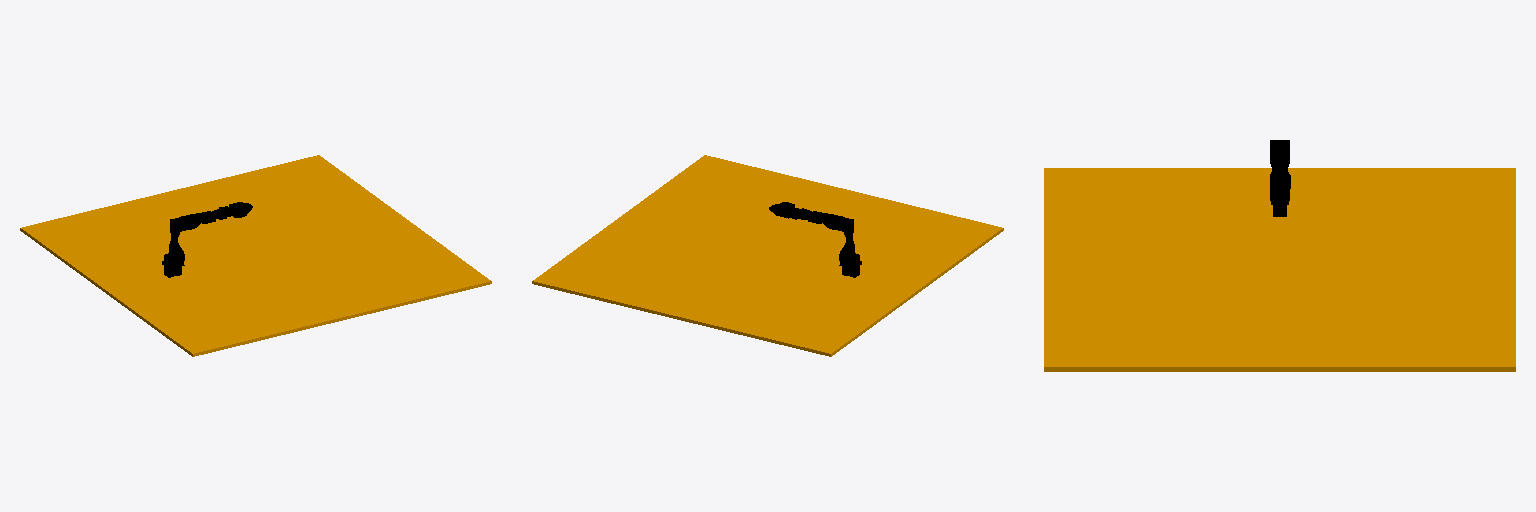
robot.urdf — seven_link_robot:
<?xml version="1.0"?>
<robot name="seven_link_robot">

  
  <link name="floor">
    <visual>
      <origin xyz="0 0 0" rpy="0 0 0"/>
      <geometry>
        <box size="1 1 0.01"/>
      </geometry>
    </visual>
    <collision>
      <origin xyz="0 0 0" rpy="0 0 0"/>
      <geometry>
        <box size="1 1 0.01"/>
      </geometry>
    </collision>
  </link>

  <joint name="joint_floor" type="fixed">
    <parent link="floor"/>
    <child link="link0"/>
    <origin xyz="-0.3 0 0" rpy="1.5708 0 -1.5708"/>
  </joint>

  <link name="link0">
    <visual>
      <origin xyz="0 0 0" rpy="0 0 0"/>
      <geometry>
        <mesh filename="package://meshes/marcel_meshes/link0.dae" scale="0.001 0.001 0.001"/>
      </geometry>
    </visual>
    <collision>
      <origin xyz="0 0 0" rpy="0 0 0"/>
      <geometry>
        <mesh filename="package://meshes/marcel_meshes/link0.dae" scale="0.001 0.001 0.001"/>
      </geometry>
    </collision>
  </link>


  <link name="link1">
    <visual>
      <origin xyz="0 0 0.03525" rpy="0 0 0"/>
      <geometry>
        <mesh filename="package://meshes/marcel_meshes/link1.dae" scale="0.001 0.001 0.001"/>
      </geometry>
    </visual>
    <collision>
      <origin xyz="0 0 0.02525" rpy="0 0 0"/>
      <geometry>
        <mesh filename="package://meshes/marcel_meshes/link1.dae" scale="0.001 0.001 0.001"/>
      </geometry>
    </collision>
  </link>

  <joint name="joint0" type="revolute">
    <parent link="link0"/>
    <child link="link1"/>
    <origin xyz="0 0 -0.03525" rpy="0 0 0"/>
    <axis xyz="0 1 0"/>
    <limit lower="-1.57" upper="1.57" effort="100" velocity="1"/>
  </joint>

  <link name="link2">
    <visual>
      <origin xyz="0 -0.0533 0.03525" rpy="0 0 0"/>
      <geometry>
        <mesh filename="package://meshes/marcel_meshes/link2.dae" scale="0.001 0.001 0.001"/>
      </geometry>
    </visual>
    <collision>
      <origin xyz="0 -0.0533 0.03525" rpy="0 0 0"/>
      <geometry>
        <mesh filename="package://meshes/marcel_meshes/link2.dae" scale="0.001 0.001 0.001"/>
      </geometry>
    </collision>
  </link>

  <joint name="joint1" type="revolute">
    <parent link="link1"/>
    <child link="link2"/>
    <origin xyz="0 0.0533 0" rpy="0 0 0"/>
    <axis xyz="1 0 0"/>
    <limit lower="-0.174533" upper="1.39626" effort="100" velocity="1"/>
  </joint>

  <link name="link3">
    <visual>
      <origin xyz="0 -0.15976 0.0605" rpy="0 0 0"/>
      <geometry>
        <mesh filename="package://meshes/marcel_meshes/link3.dae" scale="0.001 0.001 0.001"/>
      </geometry>
    </visual>
    <collision>
      <origin xyz="0 -0.15976 0.0605" rpy="0 0 0"/>
      <geometry>
        <mesh filename="package://meshes/marcel_meshes/link3.dae" scale="0.001 0.001 0.001"/>
      </geometry>
    </collision>
  </link>

  <joint name="joint2" type="revolute">
    <parent link="link2"/>
    <child link="link3"/>
    <origin xyz="0 0.10646 -0.02525" rpy="0 0 0"/>
    <axis xyz="1 0 0"/>
    <limit lower="-1.74533" upper="1.39626" effort="100" velocity="1"/>
  </joint>

  <link name="link4">
    <visual>
      <origin xyz="0 -0.16092 0.1755" rpy="0 0 0"/>
      <geometry>
        <mesh filename="package://meshes/marcel_meshes/link4.dae" scale="0.001 0.001 0.001"/>
      </geometry>
    </visual>
    <collision>
      <origin xyz="0 -0.16092 0.1755" rpy="0 0 0"/>
      <geometry>
        <mesh filename="package://meshes/marcel_meshes/link4.dae" scale="0.001 0.001 0.001"/>
      </geometry>
    </collision>
  </link>

  <joint name="joint3" type="revolute">
    <parent link="link3"/>
    <child link="link4"/>
    <origin xyz="0 0.00116 -0.115" rpy="0 0 0"/>
    <axis xyz="1 0 0"/>
    <limit lower="-1.57" upper="1.57" effort="100" velocity="1"/>
  </joint>

  <!-- Link 5 -->
  <link name="link5">
    <visual>
      <origin xyz="-0.00136 -0.16093 0.22009" rpy="0 0 0"/>
      <geometry>
        <mesh filename="package://meshes/marcel_meshes/link5.dae" scale="0.001 0.001 0.001"/>
      </geometry>
    </visual>
    <collision>
      <origin xyz="-0.00136 -0.16093 0.22009" rpy="0 0 0"/>
      <geometry>
        <mesh filename="package://meshes/marcel_meshes/link5.dae" scale="0.001 0.001 0.001"/>
      </geometry>
    </collision>
  </link>

  <joint name="joint4" type="revolute">
    <parent link="link4"/>
    <child link="link5"/>
    <origin xyz="0.00136 0 -0.04459" rpy="0 0 0"/>
    <axis xyz="0 0 1"/>
    <limit lower="-3.14" upper="3.14" effort="100" velocity="1"/>
  </joint>

  <!-- Link 6 -->
  <link name="link6">
    <visual>
      <origin xyz="-0.00876 -0.16093 0.23324" rpy="0 0 0"/>
      <geometry>
        <mesh filename="package://meshes/marcel_meshes/link6.dae" scale="0.001 0.001 0.001"/>
      </geometry>
    </visual>
    <collision>
      <origin xyz="0 0 0" rpy="0 0 0"/>
      <geometry>
        <mesh filename="package://meshes/marcel_meshes/link6.dae" scale="0.001 0.001 0.001"/>
      </geometry>
    </collision>
  </link>

  <joint name="joint5" type="revolute">
    <parent link="link5"/>
    <child link="link6"/>
    <origin xyz="0.0074 0 -0.01315" rpy="0 0 0"/>
    <axis xyz="0 1 0"/>
    <limit lower="-1.39626" upper="0.0872665" effort="100" velocity="1"/>
  </joint>

  <link name='ball'>
    <origin xyz="0 0 0" rpy="0 0 0"/>
  </link>
  <joint name="ball" type="fixed">
    <parent link="link5"/>
    <child link="ball"/>
    <origin xyz="-0.01462 -0.00054 -0.05572" rpy="0 0 0"/>
  </joint>
</robot>

--- Render facts (derived) ---
Views: 3 orthographic renders of the robot side by side, from view 1: azimuth 30°, elevation 25°; view 2: azimuth 150°, elevation 25°; view 3: azimuth 270°, elevation 25°.
Robot: seven_link_robot — 9 links, 8 joints (6 revolute, 2 fixed); root link floor; default pose: all joints at 0.
Visible links, largest first — view 1: floor, link2; view 2: floor, link2; view 3: floor.
Boxes of the visible links, x1,y1,x2,y2 form: floor: [20, 155, 491, 356]; link2: [169, 217, 189, 265]; floor: [532, 155, 1003, 356]; link2: [834, 217, 854, 265]; floor: [1044, 168, 1515, 371].
Bounding box of the posed robot: 1 × 1 × 0.1837 m (x, y, z).
Meshes: 7 distinct files referenced, 7 mesh visuals loaded (7 Collada DAE).
